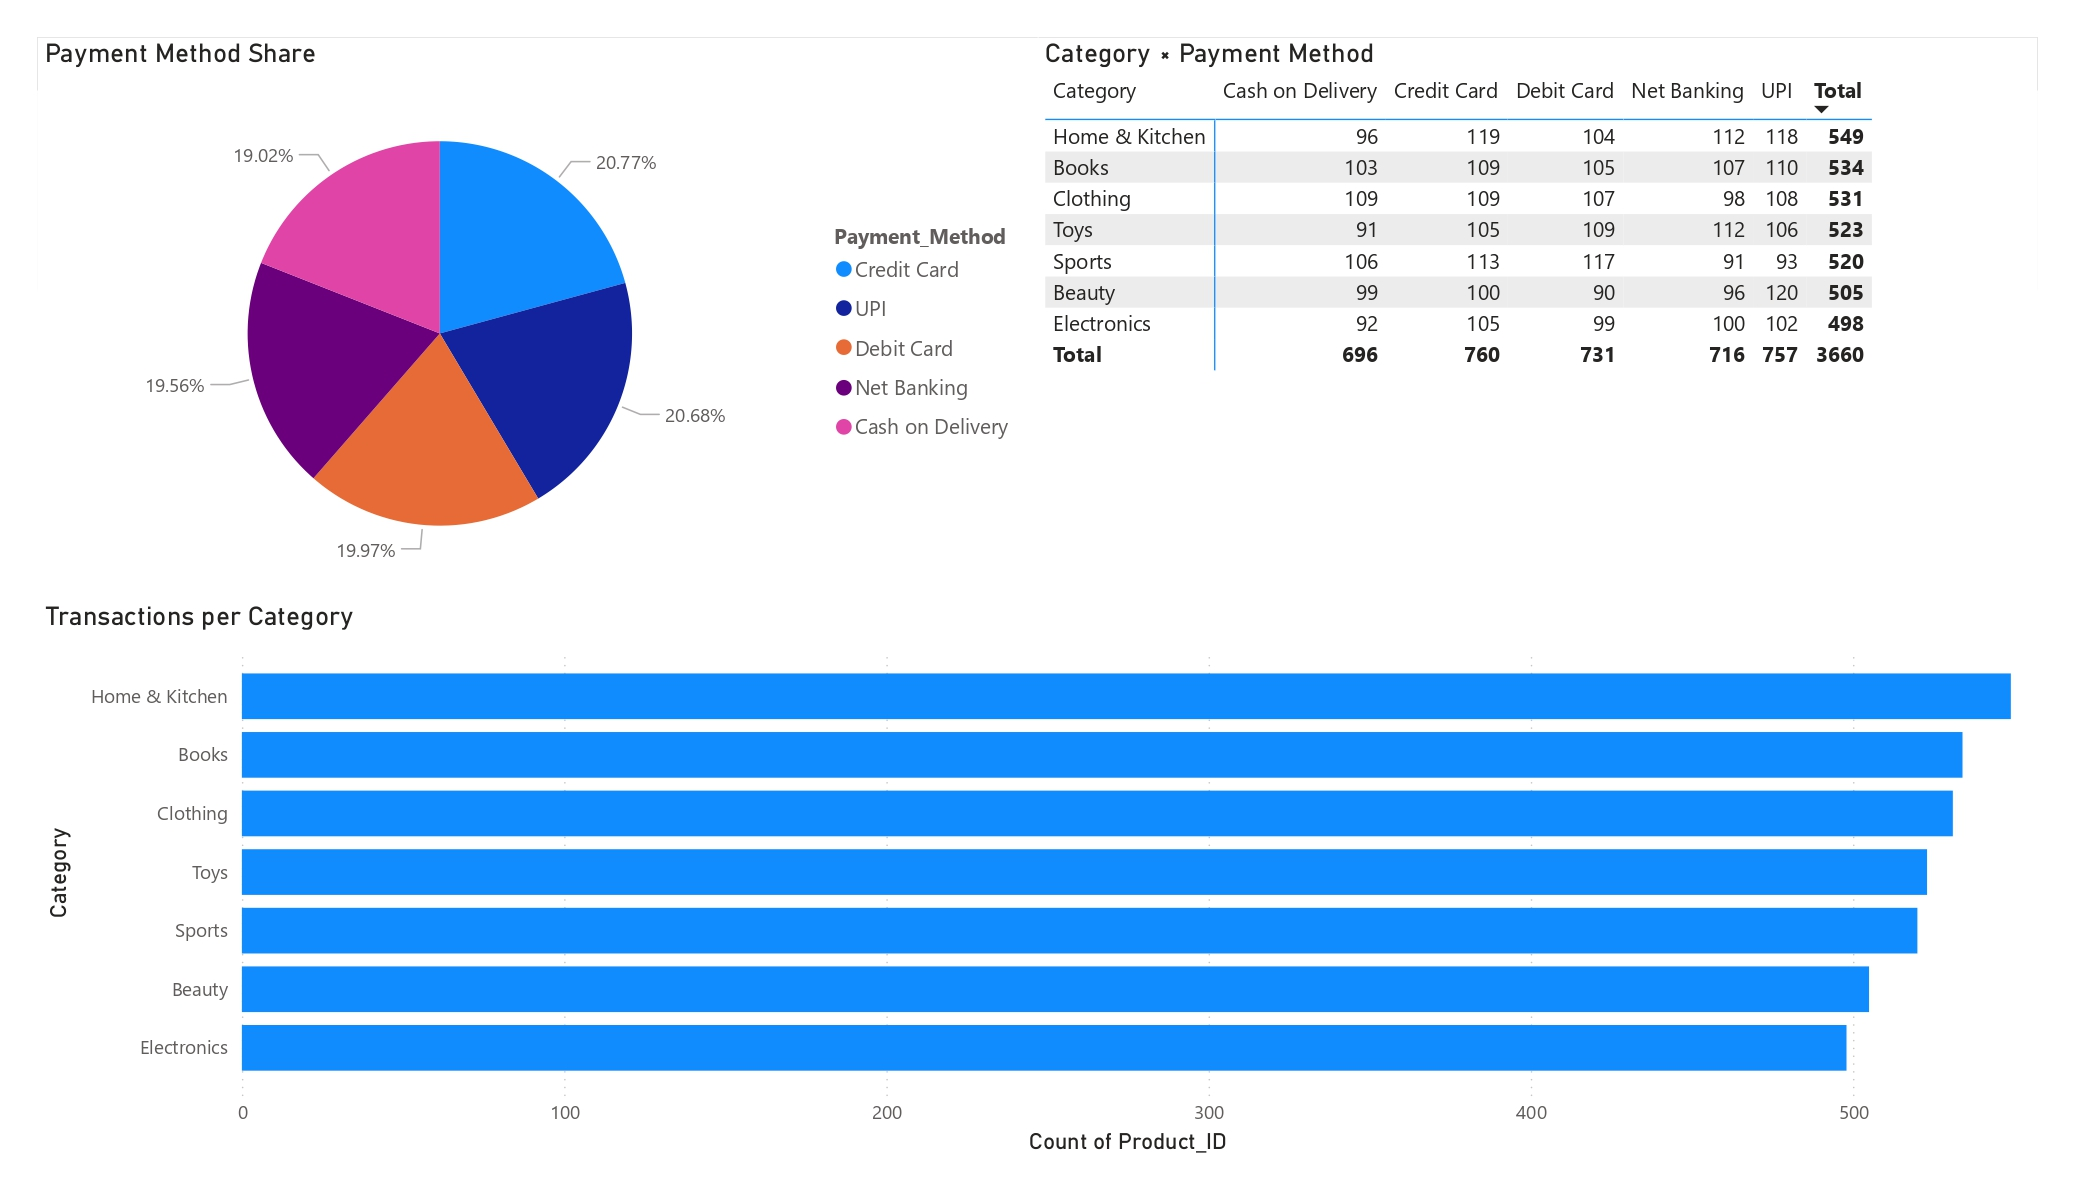

Layout of this report page (visuals, bound fields, positions):
{"tool":"powerbi","page":{"name":"Page 3","canvas":[1280,720],"ordinal":2},"visuals":[{"type":"pieChart","title":"Payment Method Share","fields":{"Category":["ecommerce_analysis_ready.Payment_Method"],"Y":["CountNonNull(ecommerce_analysis_ready.Product_ID)"]},"box":[0,0,640.5,359.7],"z":0},{"type":"barChart","title":"Transactions per Category","fields":{"Category":["ecommerce_analysis_ready.Category"],"Y":["CountNonNull(ecommerce_analysis_ready.Product_ID)"]},"box":[0,359.7,1280.2,360.6],"z":1000},{"type":"pivotTable","title":"Category × Payment Method","fields":{"Rows":["ecommerce_analysis_ready.Category"],"Columns":["ecommerce_analysis_ready.Payment_Method"],"Values":["CountNonNull(ecommerce_analysis_ready.Product_ID)"]},"box":[639.6,0,640.5,359.7],"z":2000}]}

Visuals, with their boxes on the page's 1280x720 design canvas (x1, y1, x2, y2). These are canvas units, not pixel positions in the 2075x1200 screenshot, which may show the page scaled, cropped or inside an application window:
"Payment Method Share" pieChart: (x1=0, y1=0, x2=640, y2=360)
"Transactions per Category" barChart: (x1=0, y1=360, x2=1280, y2=720)
"Category × Payment Method" pivotTable: (x1=640, y1=0, x2=1280, y2=360)
